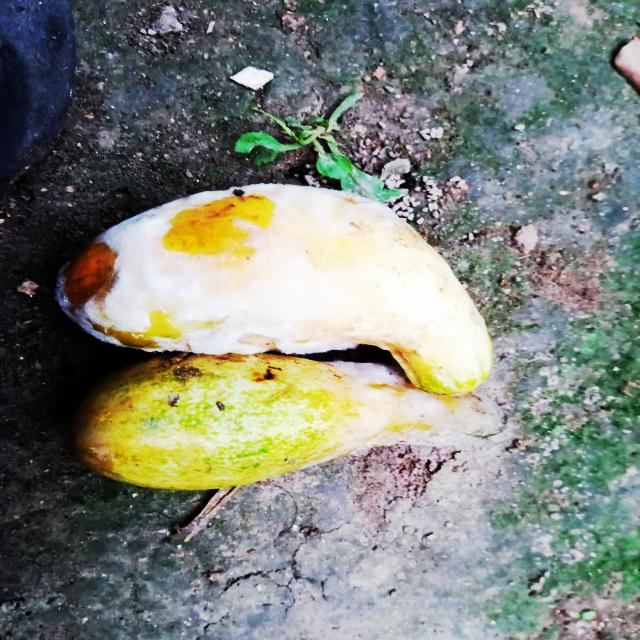Pythium-Fruit-Rot: (49, 180, 442, 359), (330, 344, 507, 477)
